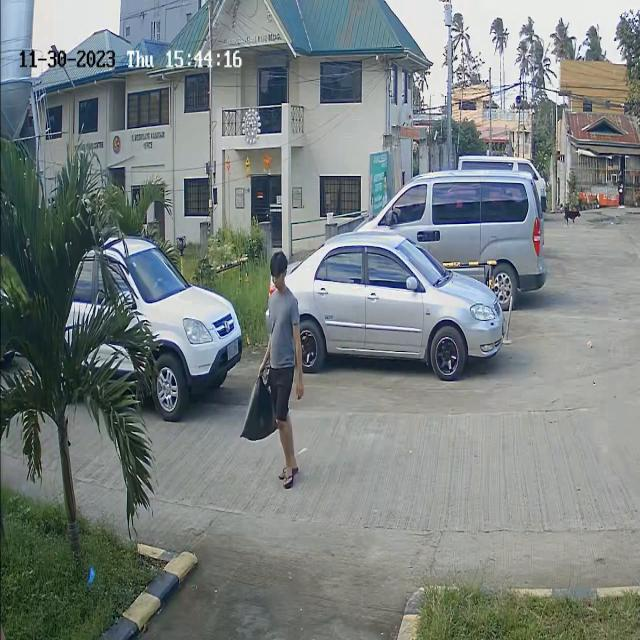garbage: (238, 364, 278, 444)
person: (261, 252, 305, 353)
